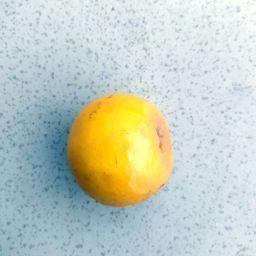Unripe: (67, 94, 171, 206)
